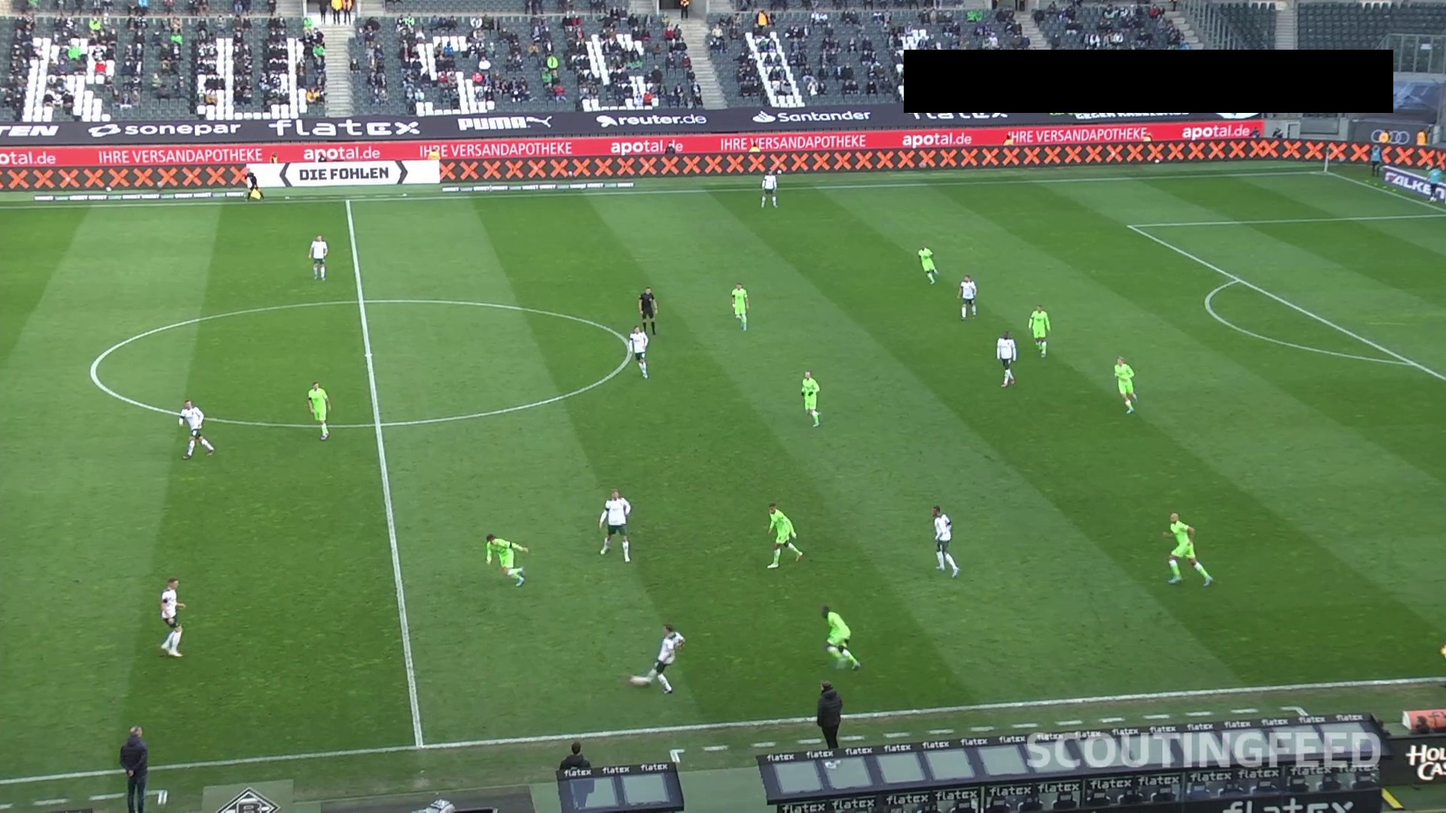ball: (759, 581, 774, 589)
player: (217, 366, 246, 415), (607, 390, 636, 439), (766, 463, 795, 512), (824, 423, 853, 472), (882, 325, 911, 374), (463, 260, 492, 309), (333, 211, 362, 260), (535, 350, 564, 398), (737, 285, 766, 333), (521, 496, 549, 545)
referee: (709, 309, 737, 358)
